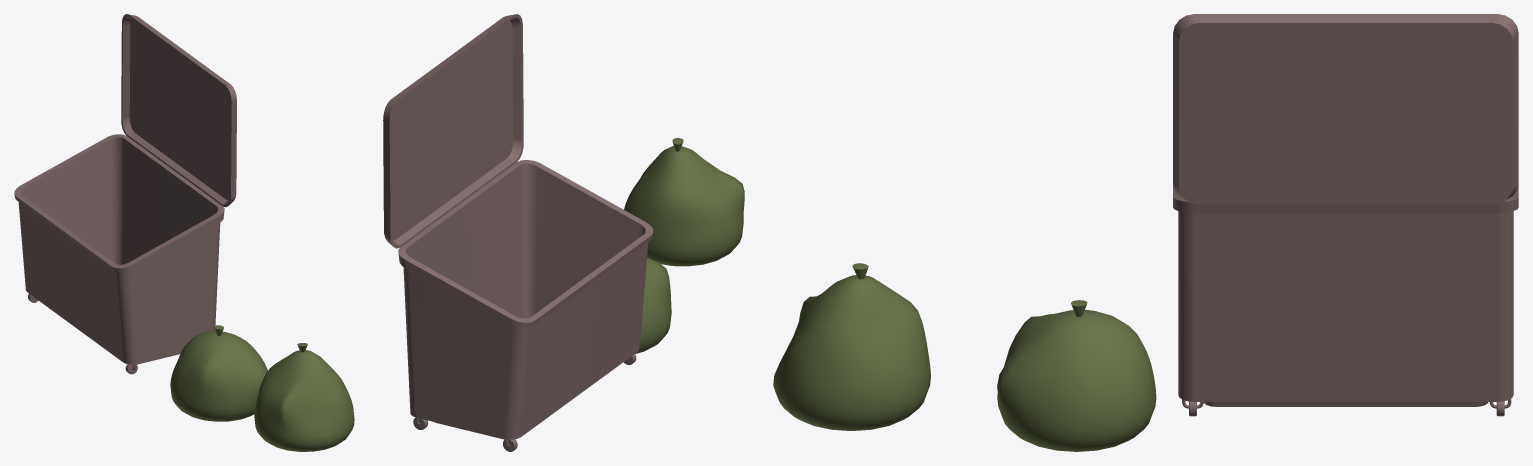
File: Trash Set.fbx
The picture shows the model from 3 angles, left to right: view 1: azimuth 30°, elevation 25°; view 2: azimuth 150°, elevation 25°; view 3: azimuth 270°, elevation 25°; orthographic projection. The views are drawn at different scales.
Visible parts, largest first — view 1: Mian, Cover, Bin_Bag_2, Bin_Bag_1; view 2: Mian, Cover, Bin_Bag_2, Bin_Bag_1; view 3: Mian, Cover, Bin_Bag_2, Bin_Bag_1.
Boxes of the visible parts, <box> form: Mian: <box>14,134,224,364</box>; Cover: <box>121,14,236,207</box>; Bin_Bag_2: <box>254,343,354,451</box>; Bin_Bag_1: <box>170,325,267,421</box>; Mian: <box>398,160,653,439</box>; Cover: <box>383,14,523,248</box>; Bin_Bag_2: <box>624,138,744,266</box>; Bin_Bag_1: <box>635,258,671,353</box>; Mian: <box>1173,184,1518,406</box>; Cover: <box>1173,14,1518,204</box>; Bin_Bag_2: <box>773,263,930,430</box>; Bin_Bag_1: <box>997,300,1156,451</box>.
Size of the model in its own units: 78.46 by 169 by 253.
